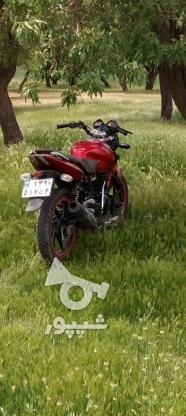car: (19, 176, 56, 197)
